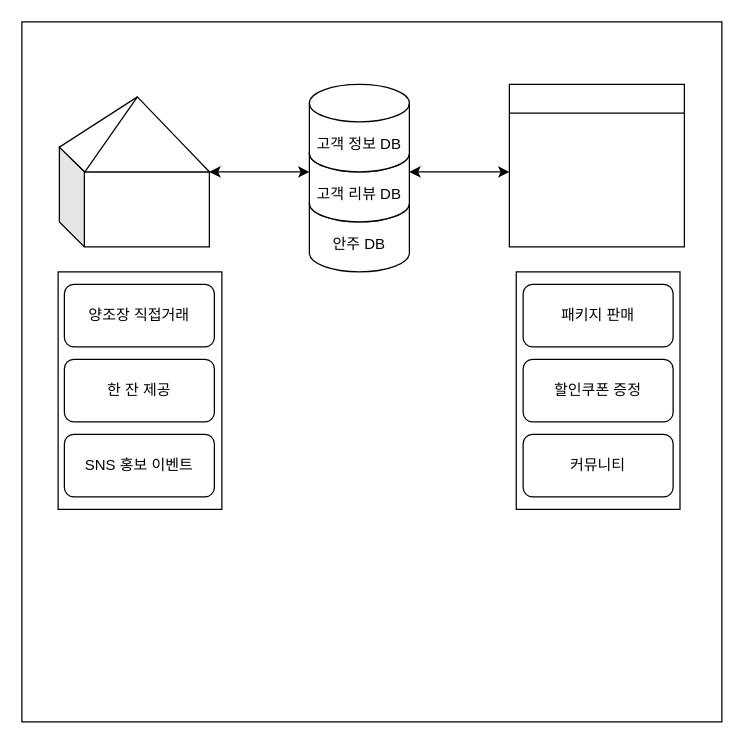
The diagram is 744 pixels wide and 744 high, and some of its shapes have lost their labels. Each missing label, with the centre of its shape:
"오프라인" goes at pixel 133 196.
"온라인" goes at pixel 596 165.
